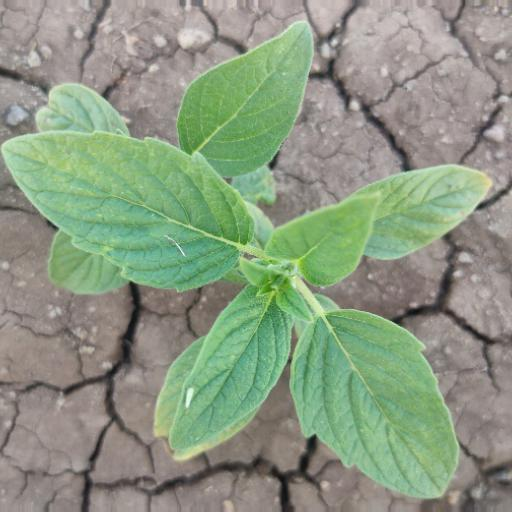crop: (6, 19, 492, 507)
